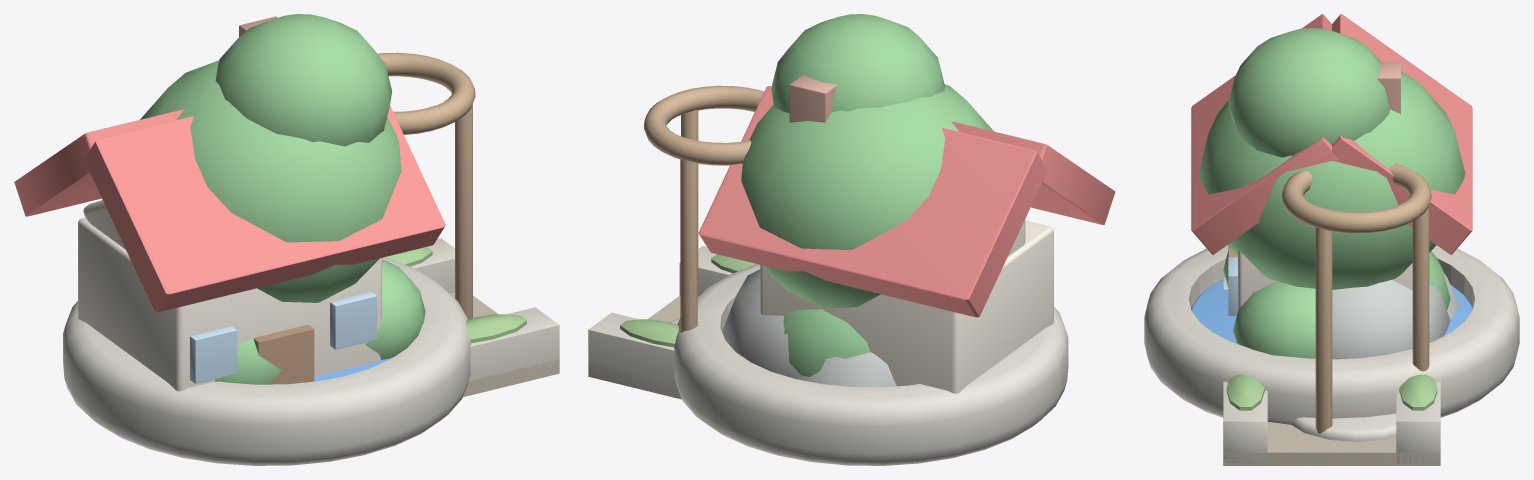
The model's file is models.glb.
3 views of the same model, side by side, from view 1: azimuth 30°, elevation 25°; view 2: azimuth 150°, elevation 25°; view 3: azimuth 270°, elevation 25° (orthographic). The views are drawn at different scales.
Parts seen in each view (by area): view 1: cottage, tree, spring, tank, canal_arm, bush, canal_arm_old; view 2: cottage, tree, spring, tank, canal_arm, rock_a, bush, rock_b, canal_arm_old; view 3: tree, spring, cottage, tank, canal_arm, rock_a, bush, canal_arm_old, spring_water.
Part boxes in pixels (x1=…): cottage: x1=14, y1=16, x2=445, y2=391; tree: x1=140, y1=14, x2=401, y2=302; spring: x1=63, y1=257, x2=471, y2=465; tank: x1=377, y1=52, x2=475, y2=319; canal_arm: x1=410, y1=238, x2=559, y2=396; bush: x1=214, y1=259, x2=425, y2=384; canal_arm_old: x1=386, y1=247, x2=526, y2=342; cottage: x1=698, y1=75, x2=1115, y2=393; tree: x1=741, y1=14, x2=993, y2=308; spring: x1=674, y1=264, x2=1068, y2=465; tank: x1=643, y1=85, x2=763, y2=332; canal_arm: x1=588, y1=246, x2=732, y2=399; rock_a: x1=722, y1=269, x2=800, y2=378; bush: x1=783, y1=309, x2=870, y2=376; rock_b: x1=794, y1=352, x2=896, y2=387; canal_arm_old: x1=620, y1=254, x2=755, y2=347; tree: x1=1198, y1=28, x2=1465, y2=289; spring: x1=1144, y1=245, x2=1519, y2=424; cottage: x1=1191, y1=14, x2=1472, y2=315; tank: x1=1281, y1=163, x2=1431, y2=441; canal_arm: x1=1223, y1=381, x2=1440, y2=465; rock_a: x1=1332, y1=280, x2=1450, y2=359; bush: x1=1223, y1=251, x2=1450, y2=358; canal_arm_old: x1=1226, y1=374, x2=1437, y2=410; spring_water: x1=1191, y1=279, x2=1472, y2=343.
Size of the model in its own units: 0.88 by 0.79 by 0.76.
